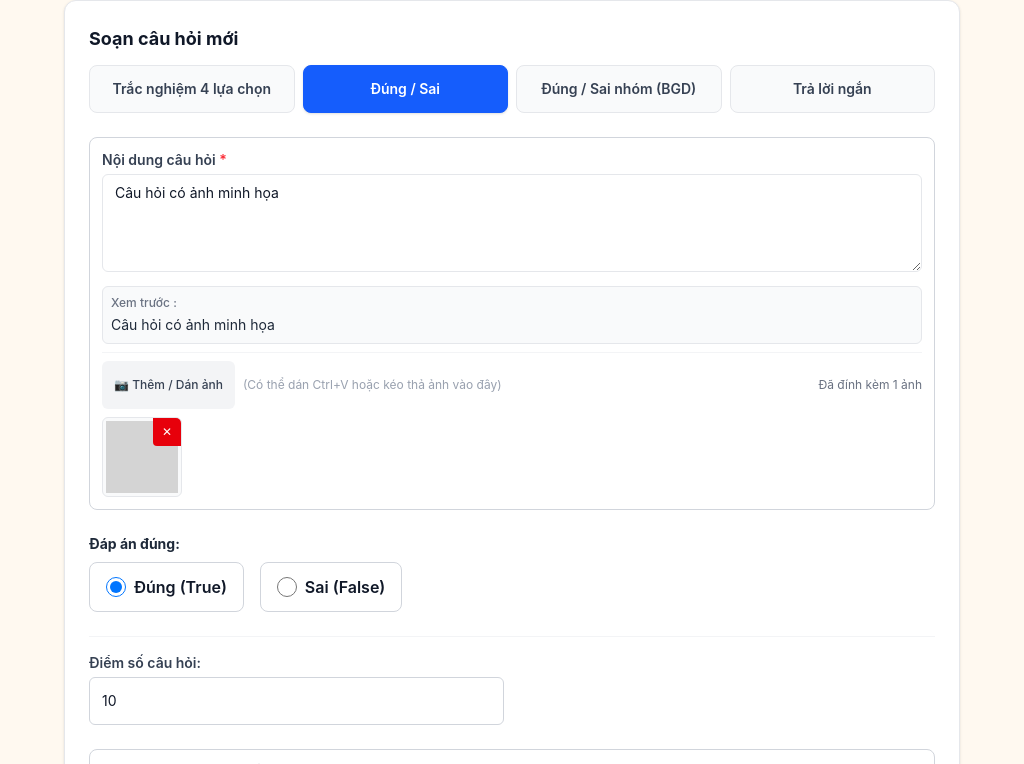
it: QuestionEditor (apps/teacher-ui - Task 2.2) › supports removing attached image
Note: Click remove image button
Click the button with test id "btn-remove-image-stem-0" at (167, 432), box [153,418,181,446]
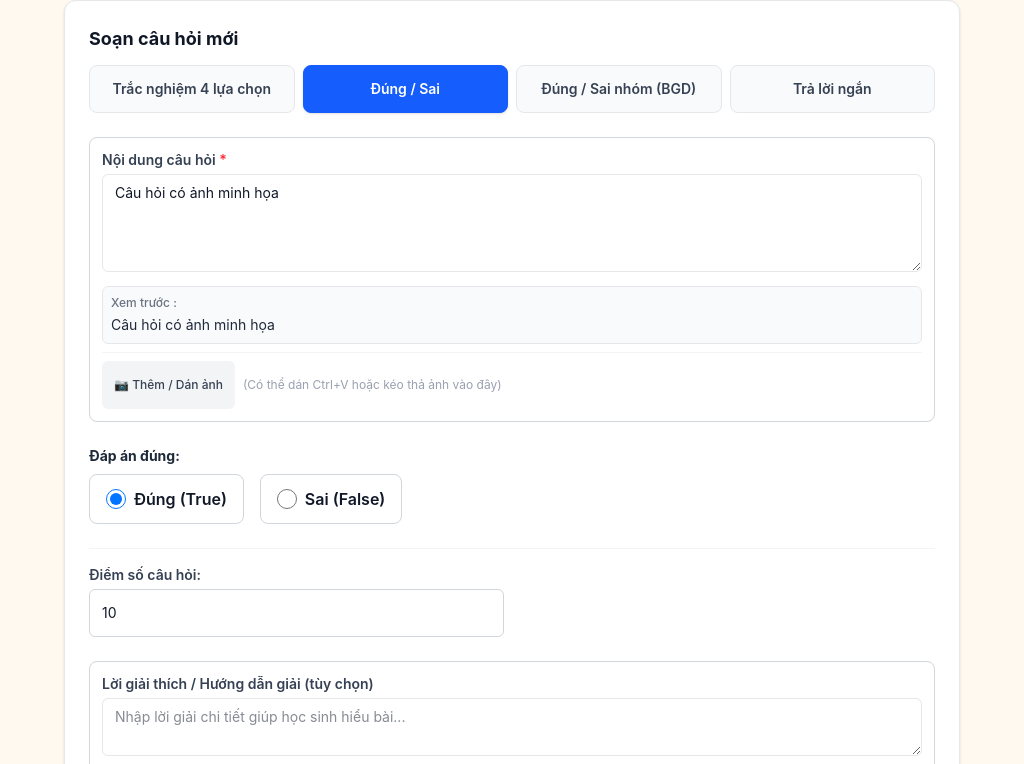
Check: no elements with test id "image-thumbnail" are shown
